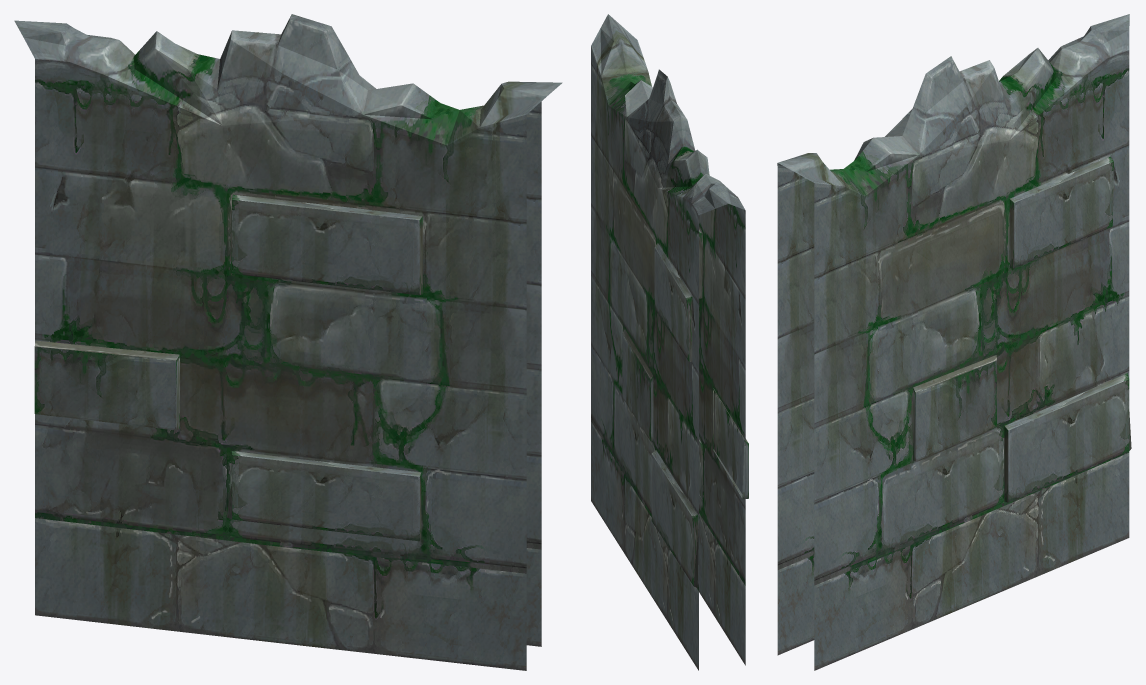
Rendered from stemple_wall_diagonal_05.fbx.
3 views of the same model, side by side, from view 1: azimuth 30°, elevation 25°; view 2: azimuth 150°, elevation 25°; view 3: azimuth 270°, elevation 25° (orthographic). The views are drawn at different scales.
Parts seen in each view (by area): view 1: obj1.104; view 2: obj1.104; view 3: obj1.104.
Part boxes in pixels (bbox=[...]): obj1.104: bbox=[14, 14, 562, 670]; obj1.104: bbox=[591, 14, 748, 670]; obj1.104: bbox=[777, 14, 1131, 670].
Bounding box in the file's own units: 4.03 × 6.79 × 4.02.
